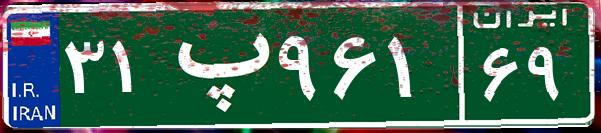1: (385, 28, 445, 110), (110, 28, 158, 105)
3: (57, 26, 110, 107)
6: (330, 28, 385, 110), (475, 38, 525, 113)
9: (273, 28, 330, 110), (525, 38, 570, 115)
پ: (158, 15, 273, 115)
